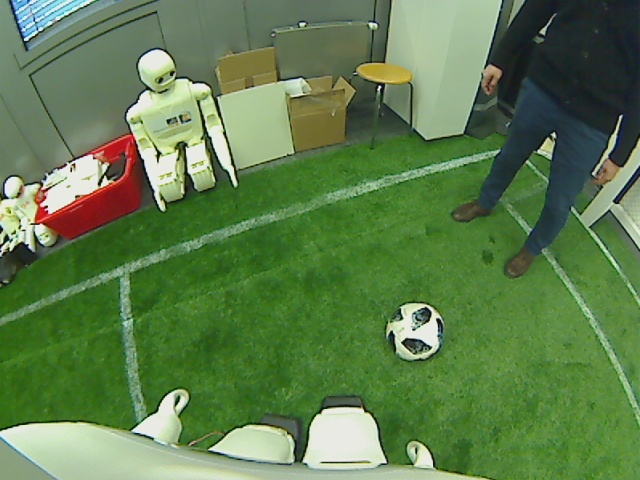ball: (384, 301, 445, 362)
